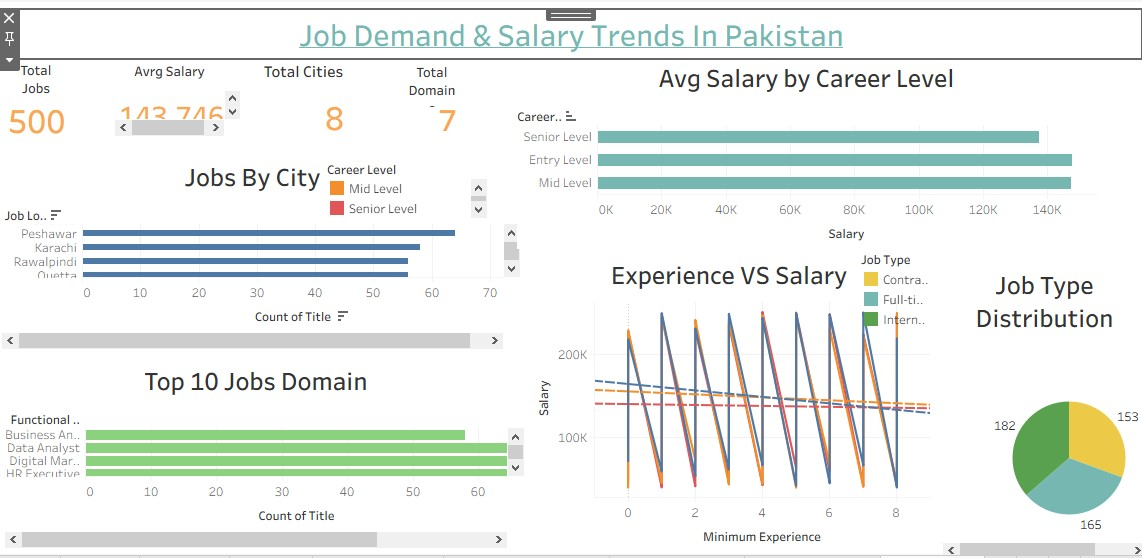

The page's visual inventory and layout, read from the dashboard file:
{"tool":"tableau","page":{"name":"Dashboard 1","canvas":[1000,1000],"units":"permille","ordinal":0},"visuals":[{"type":"title","box":[6.9,14.5,986.1,87]},{"type":"worksheet","title":"Total Jobs","mark":"Automatic","box":[6.7,99.6,93.7,143.1]},{"type":"worksheet","title":"Total Cities","mark":"Automatic","box":[228.5,99.6,110.5,157.6]},{"type":"worksheet","title":"Avg Salary by Career Level","mark":"Bar","rows":["Career Level"],"cols":["Salary"],"box":[452.7,99.6,533.9,358.7]},{"type":"worksheet","title":"Avr Salary","mark":"Automatic","box":[104.6,101.5,108.8,141.3]},{"type":"worksheet","title":"Total Domain","mark":"Automatic","box":[353.1,103.3,128.9,146.7]},{"type":"worksheet","title":"Jobs by City","mark":"Bar","rows":["Job Location"],"cols":["Title"],"box":[6.7,279,448.5,349.6]},{"type":"legend","title":"Experience VS Salary","param":"[federated.18cniim03rbr3q1f9tca30c74sty].[none:Career Level:nk]","box":[288.7,288,140.6,103.3]},{"type":"legend","title":"Job Type Distribution","param":"[federated.18cniim03rbr3q1f9tca30c74sty].[none:Job Type:nk]","box":[750.6,451.1,62.8,240.9]},{"type":"worksheet","title":"Experience VS Salary","mark":"Line","rows":["Salary"],"cols":["Minimum Experience"],"box":[462.8,456.5,348.1,541.7]},{"type":"worksheet","title":"Top 10 Job Domains","mark":"Automatic","rows":["Functional Area"],"cols":["Title"],"box":[9.2,648.6,449.4,340.6]}]}

Visuals, with their boxes on the dashboard's canvas, which has no fixed pixel size, in thousandths of its width and height (x1, y1, x2, y2). These are canvas units, not pixel positions in the 1142x558 screenshot, which may show the page scaled, cropped or inside an application window:
title: (7, 14, 993, 102)
"Total Jobs" worksheet: (7, 100, 100, 243)
"Total Cities" worksheet: (228, 100, 339, 257)
"Avg Salary by Career Level" worksheet (Bar marks): (453, 100, 987, 458)
"Avr Salary" worksheet: (105, 102, 213, 243)
"Total Domain" worksheet: (353, 103, 482, 250)
"Jobs by City" worksheet (Bar marks): (7, 279, 455, 629)
"Experience VS Salary" legend: (289, 288, 429, 391)
"Job Type Distribution" legend: (751, 451, 813, 692)
"Experience VS Salary" worksheet (Line marks): (463, 456, 811, 998)
"Top 10 Job Domains" worksheet: (9, 649, 459, 989)
